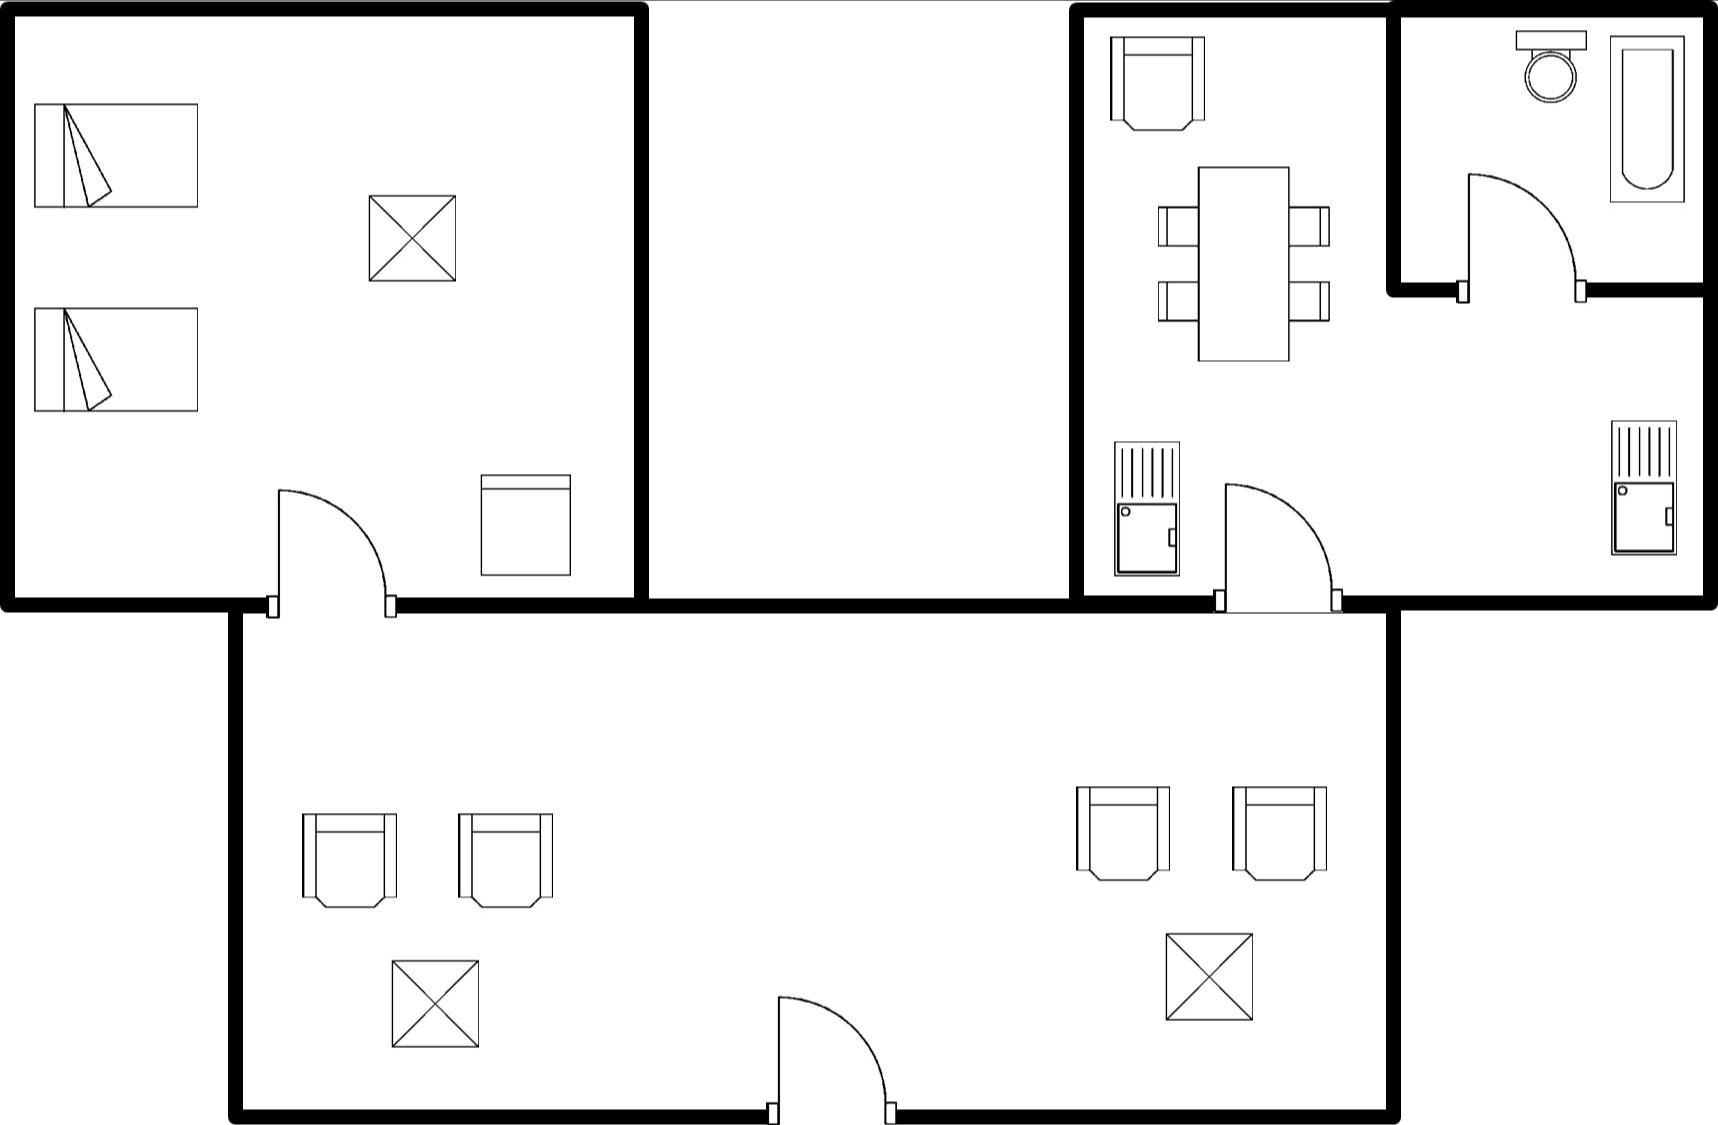bed: (25, 92, 206, 220), (23, 299, 208, 422)
dining_table: (1146, 156, 1337, 370)
sink: (1596, 408, 1685, 565), (1103, 429, 1187, 583)
toilet: (1503, 20, 1590, 114)
tub: (1600, 28, 1695, 215)
